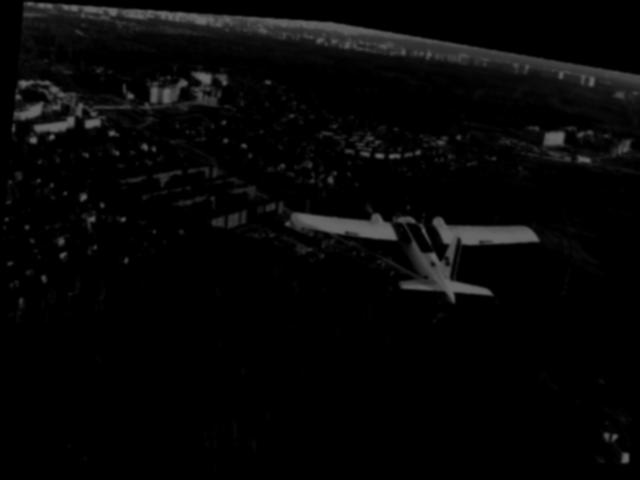hedef: (284, 174, 552, 314)
